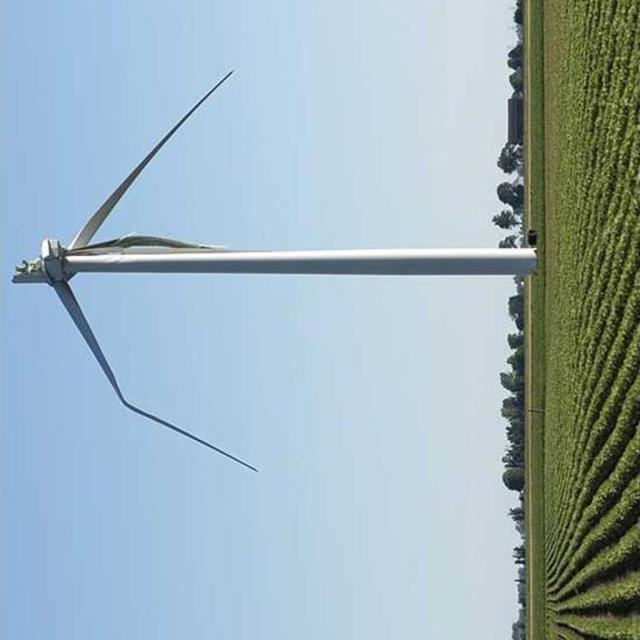crack: (104, 376, 266, 476)
